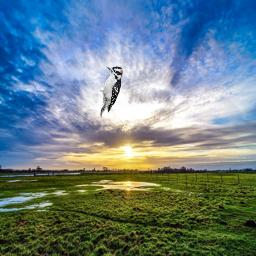Woodpecker: (100, 64, 125, 118)
